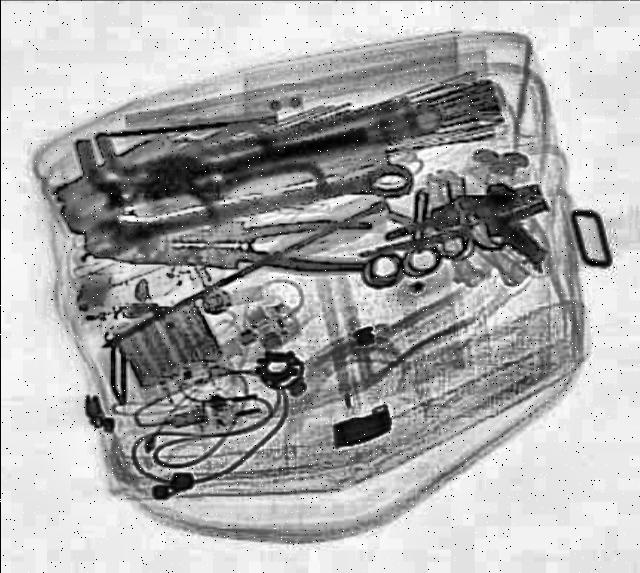Pliers: (85, 221, 372, 274)
Wrench: (85, 163, 421, 259)
